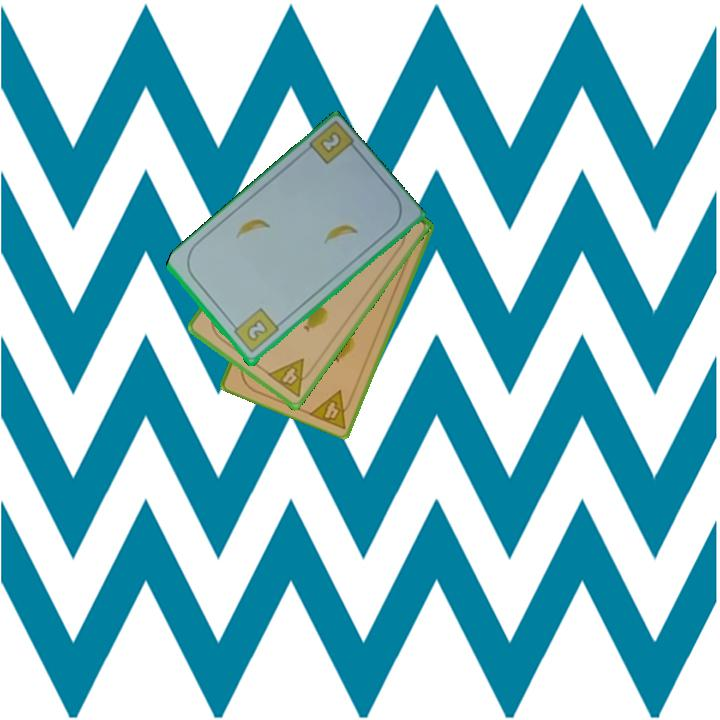2b: (228, 305, 282, 356), (316, 128, 345, 157)
4p: (305, 386, 357, 432), (264, 355, 317, 400)
